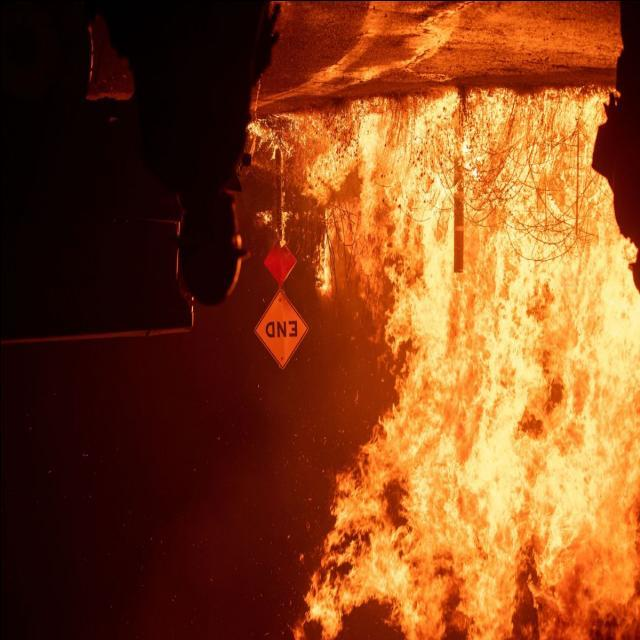Fire: (227, 89, 640, 639)
